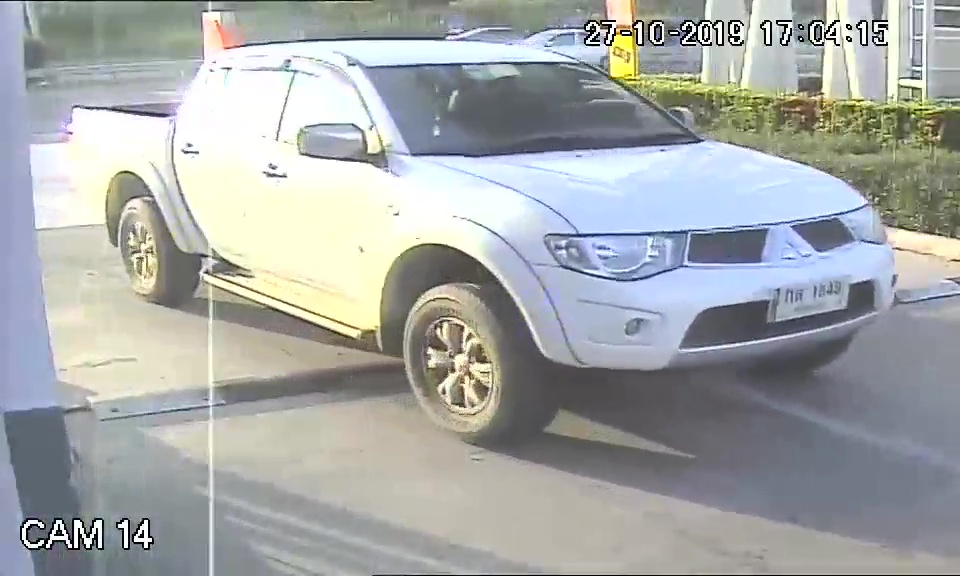pickup: (66, 34, 896, 445)
